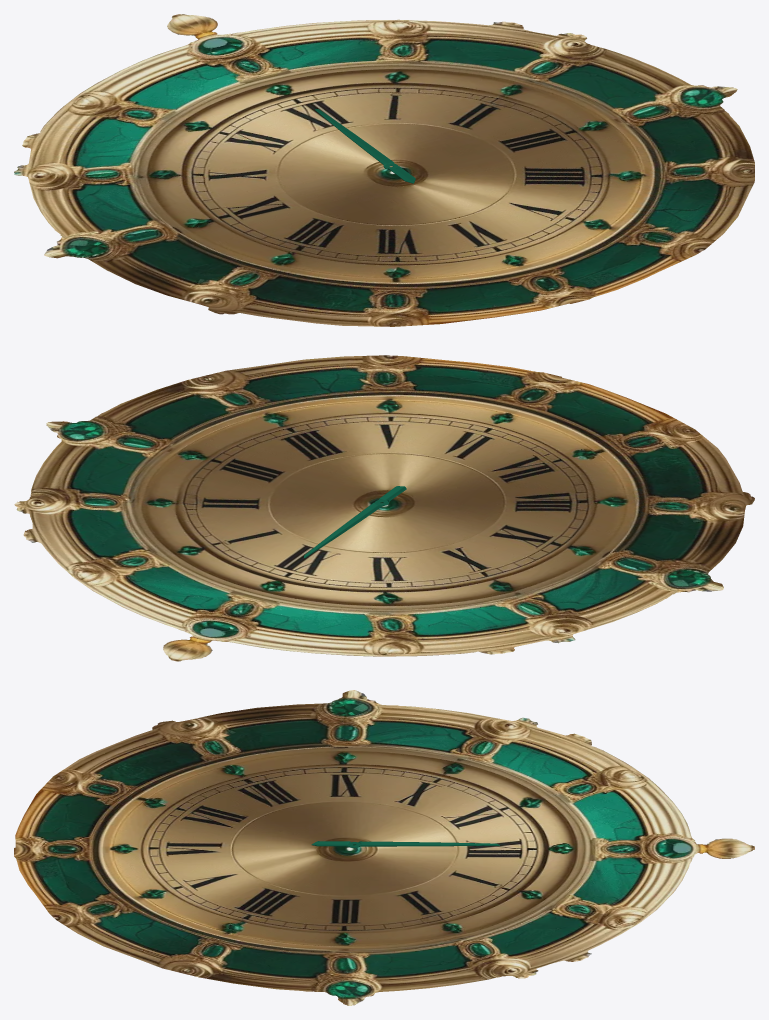
File: clock.glb
3 renders of one model, top to bottom at view 1: azimuth 30°, elevation 25°; view 2: azimuth 150°, elevation 25°; view 3: azimuth 270°, elevation 25°, orthographic. The views are drawn at different scales.
Visible parts, largest first — view 1: clock_face, clock_hand; view 2: clock_face, clock_hand; view 3: clock_face, clock_hand.
Part boxes in pixels (bbox=[...]): clock_face: bbox=[14, 14, 754, 326]; clock_hand: bbox=[315, 109, 415, 183]; clock_face: bbox=[14, 355, 754, 661]; clock_hand: bbox=[304, 486, 406, 558]; clock_face: bbox=[14, 690, 754, 1005]; clock_hand: bbox=[311, 841, 499, 847].
Size of the model in its own units: 1.87 by 0.0141 by 1.85.
2 materials, 1 textured.
